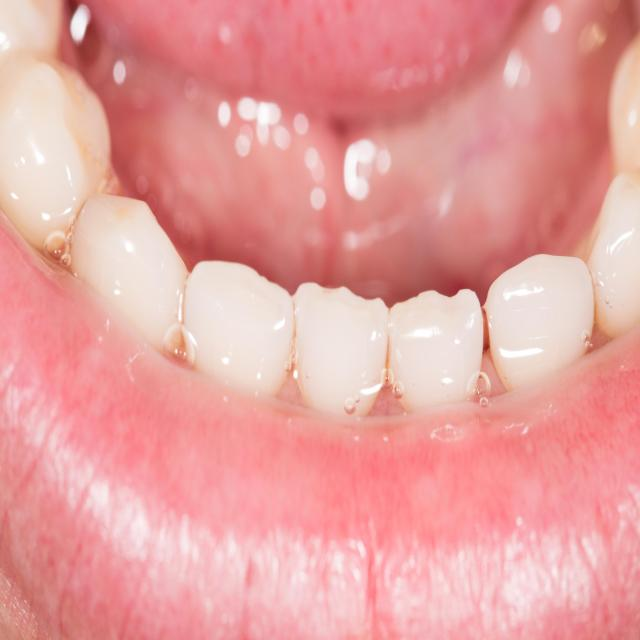Tooth: (0, 46, 112, 251), (69, 192, 188, 359), (182, 260, 295, 398), (485, 253, 595, 393), (293, 281, 390, 417), (386, 288, 484, 411), (581, 169, 640, 340)
